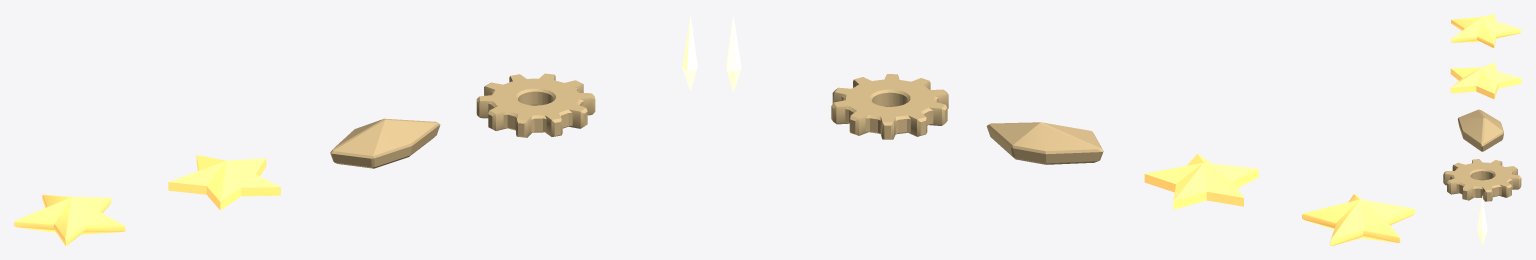
The model's file is reward_assets.glb.
The picture shows the model from 3 angles, left to right: view 1: azimuth 30°, elevation 25°; view 2: azimuth 150°, elevation 25°; view 3: azimuth 270°, elevation 25°; orthographic projection. The views are drawn at different scales.
Visible parts, largest first — view 1: reward_gear, reward_chip, reward_shard, reward_star, reward_spark; view 2: reward_gear, reward_chip, reward_shard, reward_star, reward_spark; view 3: reward_gear, reward_shard, reward_star, reward_chip, reward_spark.
Part boxes in pixels (x1,y1,x2,y2): reward_gear: (476, 73, 595, 137); reward_chip: (330, 118, 440, 168); reward_shard: (168, 155, 280, 210); reward_star: (14, 194, 125, 245); reward_spark: (682, 14, 697, 91); reward_gear: (831, 74, 948, 139); reward_chip: (986, 122, 1103, 164); reward_shard: (1144, 154, 1258, 209); reward_star: (1302, 194, 1414, 245); reward_spark: (726, 15, 741, 92); reward_gear: (1443, 159, 1521, 201); reward_shard: (1450, 62, 1521, 99); reward_star: (1451, 14, 1521, 48); reward_chip: (1458, 109, 1503, 151); reward_spark: (1477, 195, 1487, 245).
Size of the model in its own units: 13.08 by 1.45 by 1.99.
